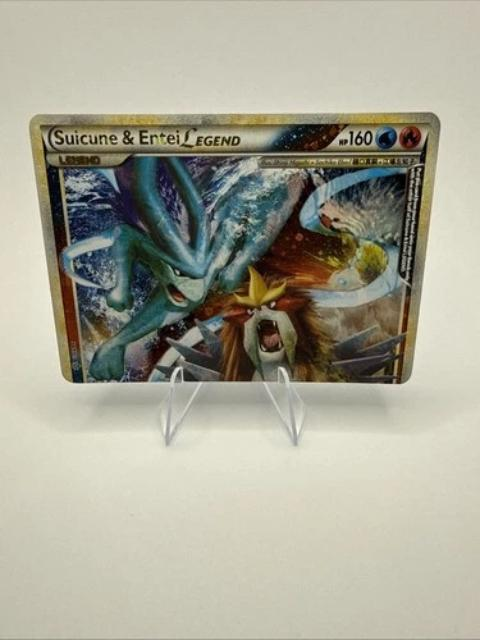Card: (23, 108, 443, 388)
Name: (50, 122, 248, 154)
